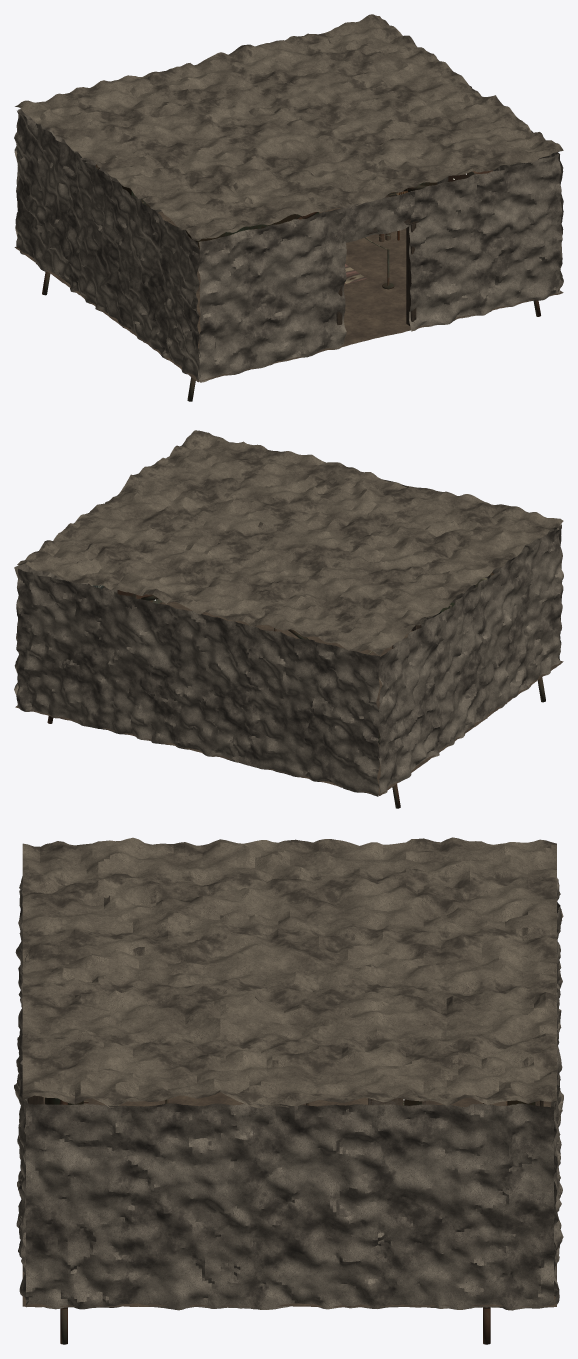
File: env_sanctuary_checkout.gltf
3 renders of one model, top to bottom at view 1: azimuth 30°, elevation 25°; view 2: azimuth 150°, elevation 25°; view 3: azimuth 270°, elevation 25°, orthographic. The views are drawn at different scales.
Visible parts, largest first — view 1: checkout_rock_mine_01, checkout_rock_mine_02, checkout_earth_packed_01, checkout_timber_mine_01, checkout_metal_dark_01, checkout_steel_painted_02; view 2: checkout_rock_mine_01, checkout_rock_mine_02, checkout_earth_packed_01, checkout_metal_dark_01; view 3: checkout_rock_mine_02, checkout_rock_mine_01, checkout_earth_packed_01, checkout_metal_dark_01.
Boxes of the visible parts, x1,y1,x2,y2 form: checkout_rock_mine_01: (14, 33, 563, 382); checkout_rock_mine_02: (15, 14, 563, 240); checkout_earth_packed_01: (14, 202, 563, 381); checkout_timber_mine_01: (336, 191, 418, 343); checkout_metal_dark_01: (42, 164, 540, 401); checkout_steel_painted_02: (120, 182, 437, 249); checkout_rock_mine_01: (14, 442, 563, 796); checkout_rock_mine_02: (17, 430, 563, 655); checkout_earth_packed_01: (15, 601, 563, 795); checkout_metal_dark_01: (47, 572, 545, 808); checkout_rock_mine_02: (22, 837, 556, 1108); checkout_rock_mine_01: (14, 846, 563, 1310); checkout_earth_packed_01: (22, 1092, 556, 1307); checkout_metal_dark_01: (60, 1099, 507, 1344).
Size of the model in its own units: 9.79 by 4.52 by 8.59.
Materials: 22 (21 with a texture image).
